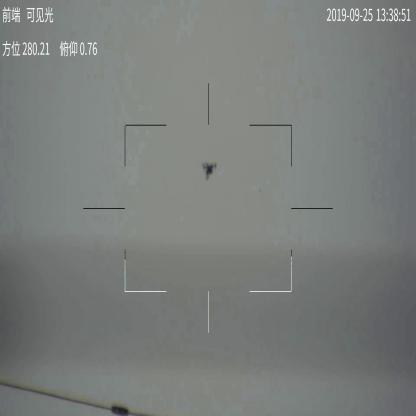uav: (202, 158, 218, 180)
